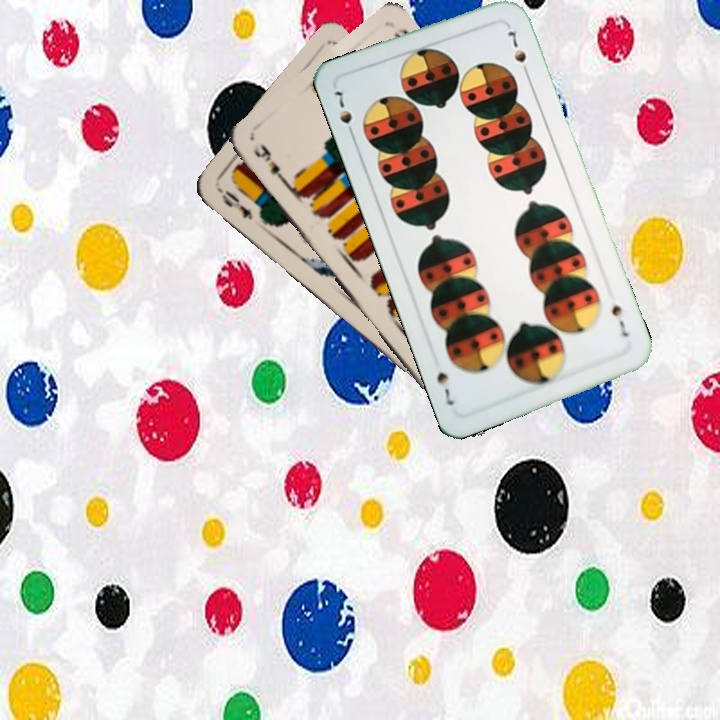E9: (248, 140, 292, 189)
EO: (213, 183, 256, 223)
S7: (330, 86, 358, 141), (607, 296, 632, 340)
